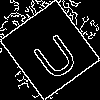U: (25, 24, 81, 84)
